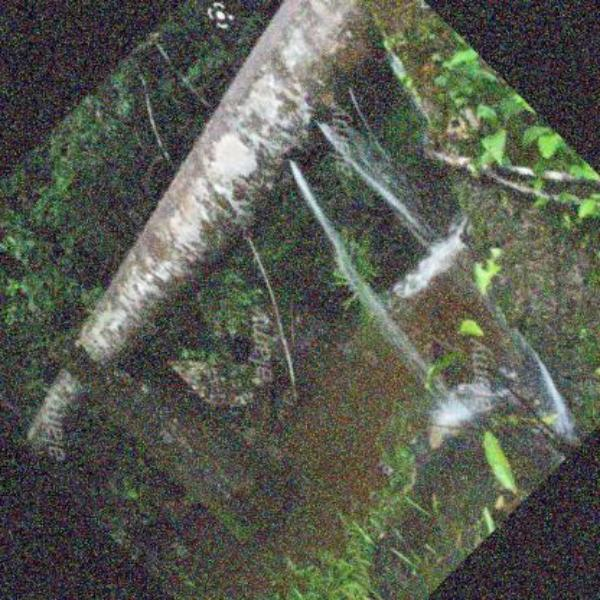water: (183, 86, 454, 320)
